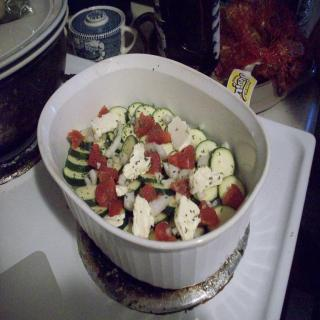Cheese: (173, 193, 201, 240), (188, 164, 223, 196), (123, 138, 150, 178), (131, 192, 154, 238), (89, 109, 119, 138), (167, 113, 191, 149), (102, 207, 125, 226), (115, 183, 129, 197)
Salad: (61, 99, 247, 243)
